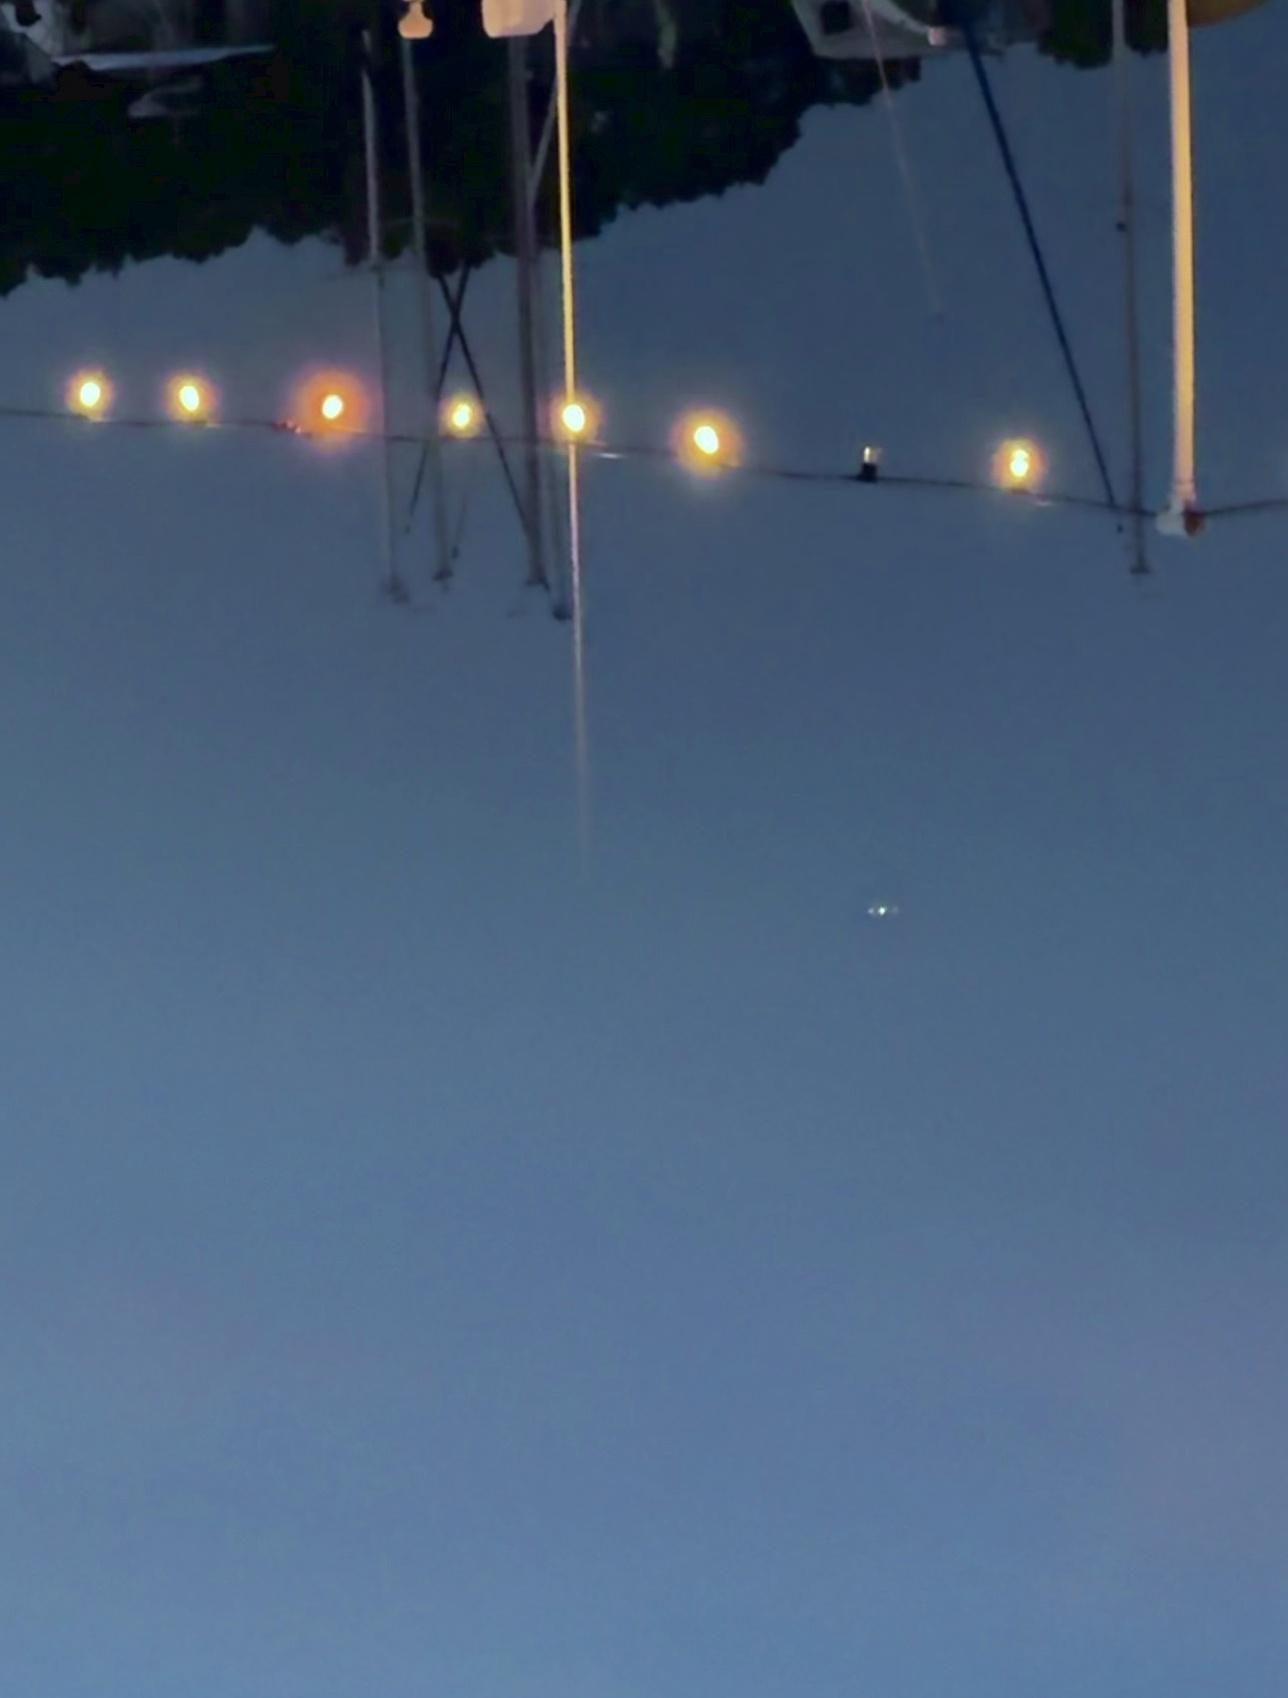Plane: (844, 888, 924, 931)
